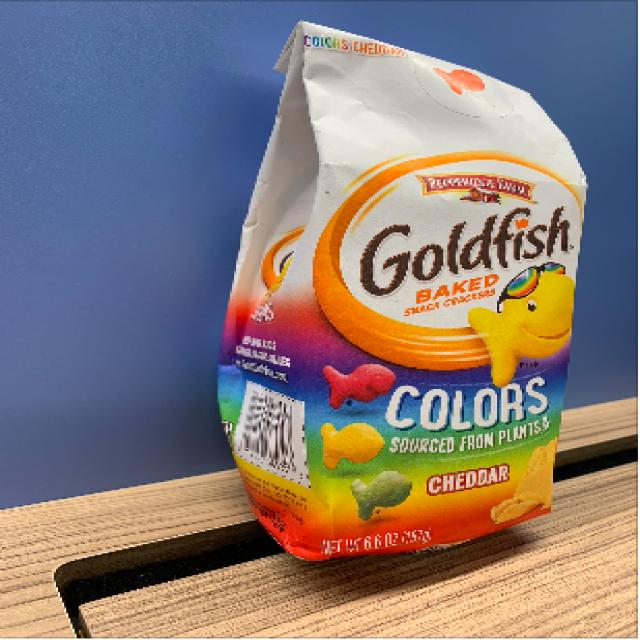object_name: (249, 44, 553, 526)
